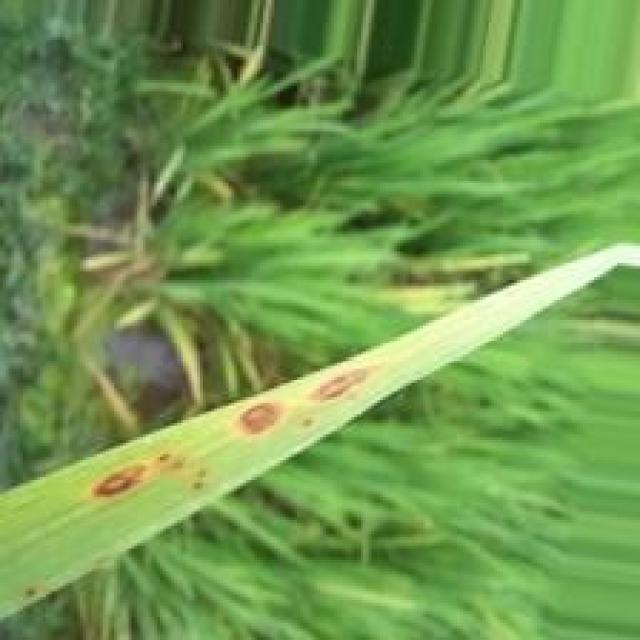Brown_Spot: (88, 455, 156, 508), (302, 363, 382, 403), (231, 397, 296, 442)
